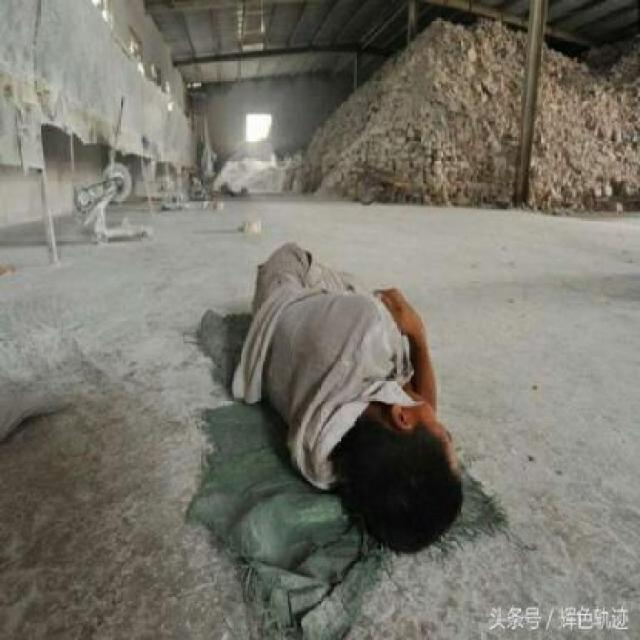fall: (198, 229, 490, 549)
